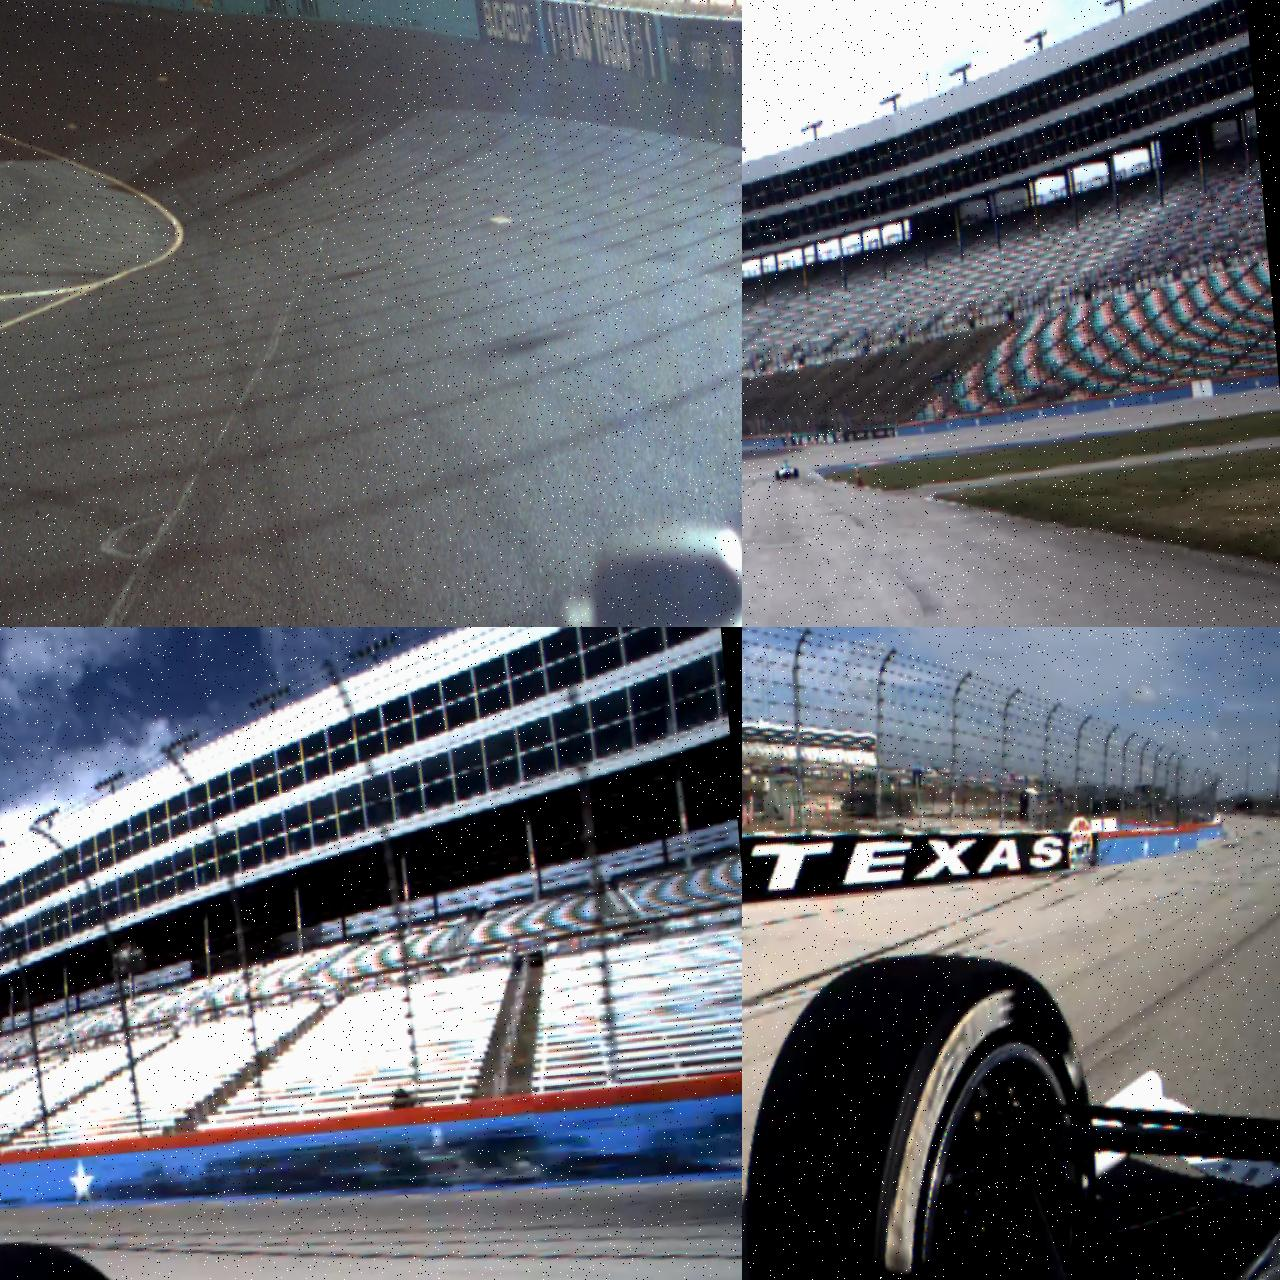AV: (774, 459, 799, 481)
Wheel: (742, 941, 1118, 1280), (794, 468, 798, 477), (776, 470, 779, 481)
